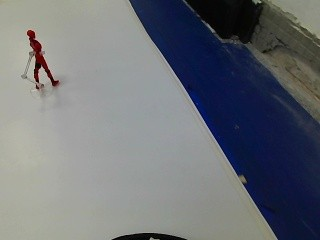pedestrian: (20, 22, 64, 93)
